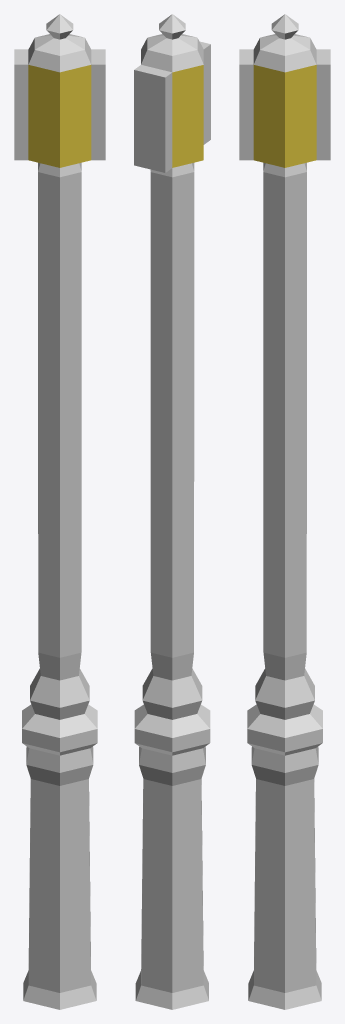
Rendered from lantern_stand.fbx.
3 renders of one model, left to right at view 1: azimuth 90°, elevation 25°; view 2: azimuth 150°, elevation 25°; view 3: azimuth 270°, elevation 25°, orthographic.
Parts seen in each view (by area): view 1: Cylinder.001; view 2: Cylinder.001; view 3: Cylinder.001.
Boxes of the visible parts, left/top/right/bottom form: Cylinder.001: left=14, top=14, right=105, bottom=1009; Cylinder.001: left=134, top=14, right=210, bottom=1009; Cylinder.001: left=239, top=14, right=330, bottom=1009.
Bounding box in the file's own units: 96.13 × 1190 × 100.
